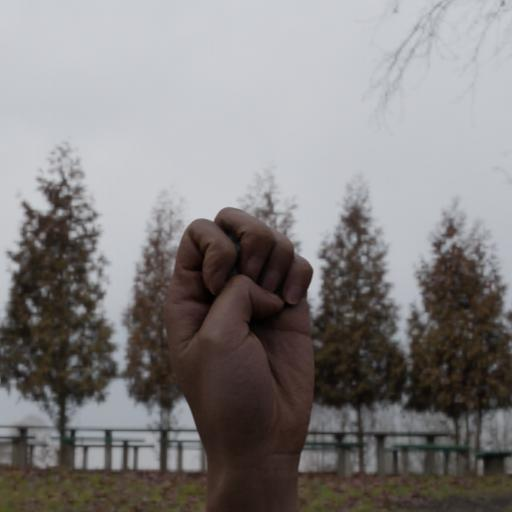E: (149, 195, 331, 472)
